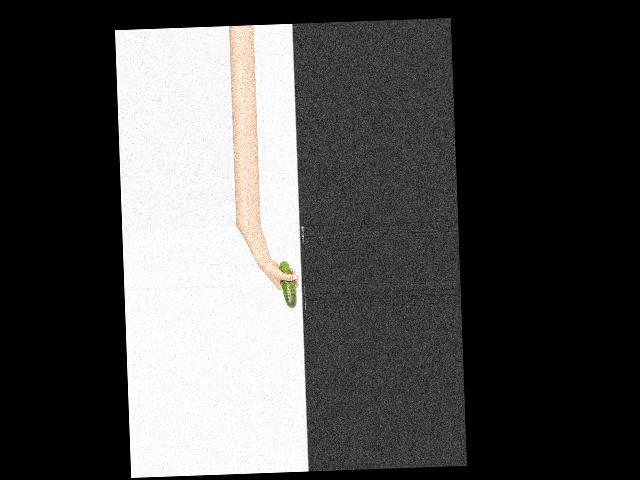cucumber: (279, 261, 297, 309)
